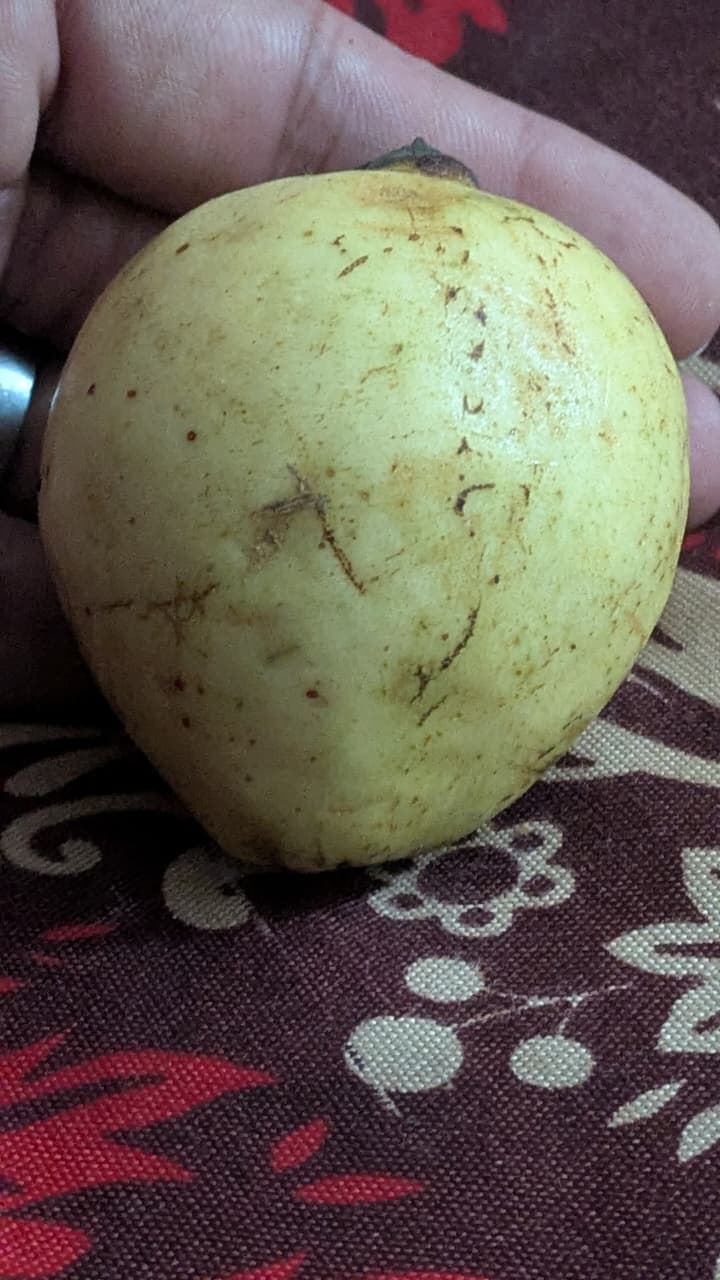guava: (13, 64, 595, 1066)
